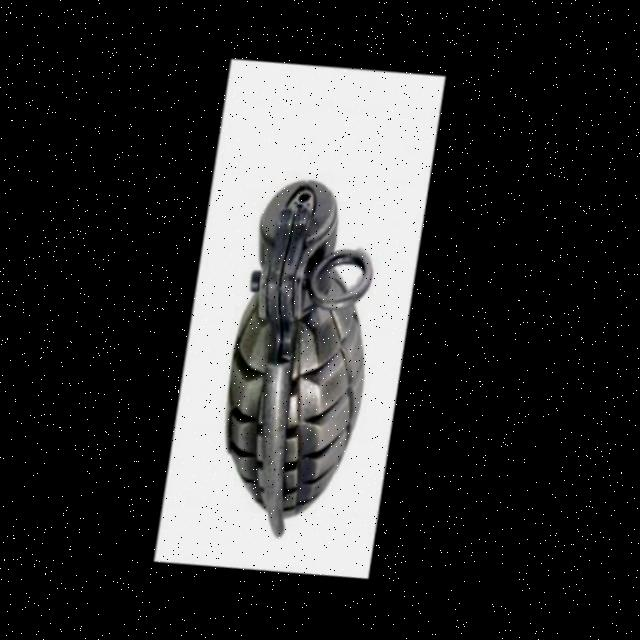grenade: (181, 150, 432, 566)
